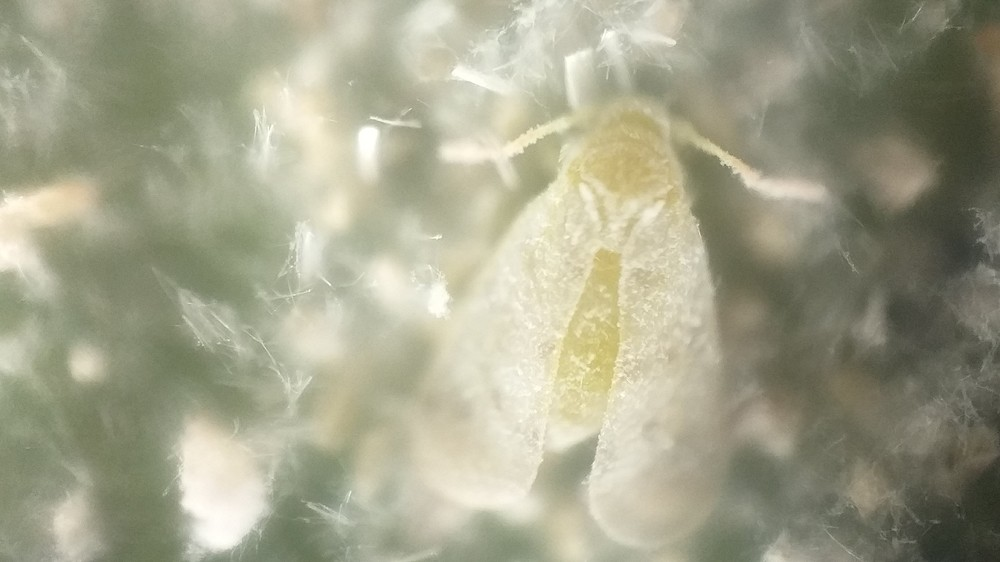Mosca Blanca: (401, 87, 856, 548)
